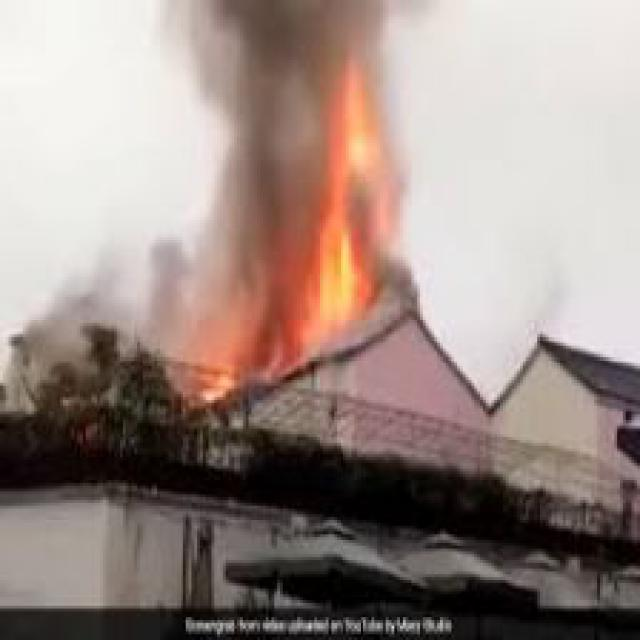fire: (217, 40, 403, 383)
